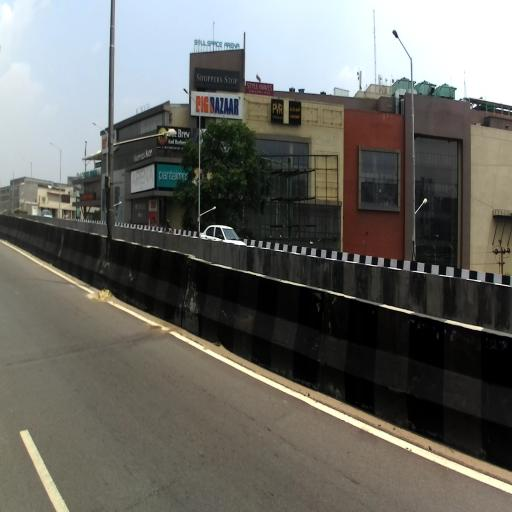street_light_0: (110, 130, 178, 150), (392, 28, 414, 62), (182, 87, 202, 113), (412, 196, 430, 216), (198, 204, 217, 218), (107, 198, 124, 210), (93, 122, 107, 136), (51, 142, 62, 154), (20, 157, 33, 165), (7, 168, 15, 177)
